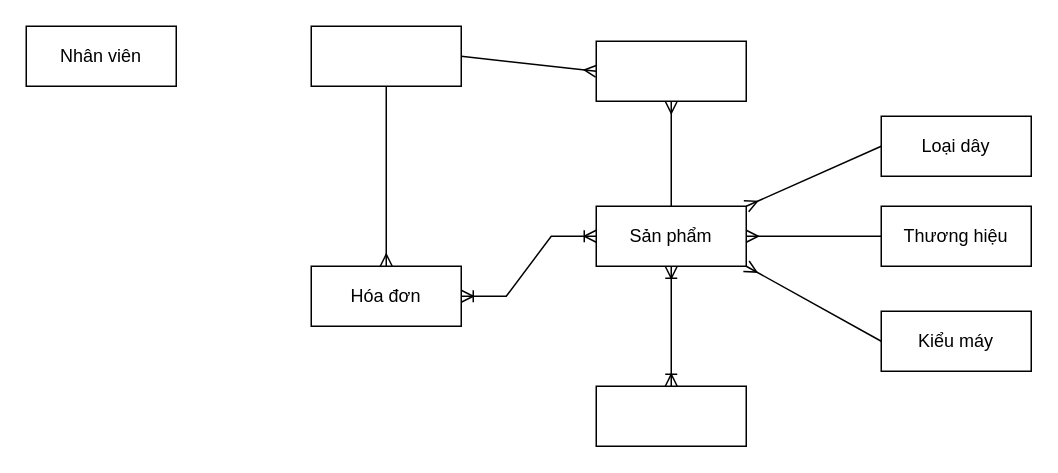
This 1058x473 diagram has some shape labels left out. The box of each missing label's shape, as (x1, y1, x2, y2) in pixels:
Bình luận: (595, 40, 746, 101)
Chức năng: (595, 385, 746, 446)
Khách hàng: (310, 25, 461, 86)
